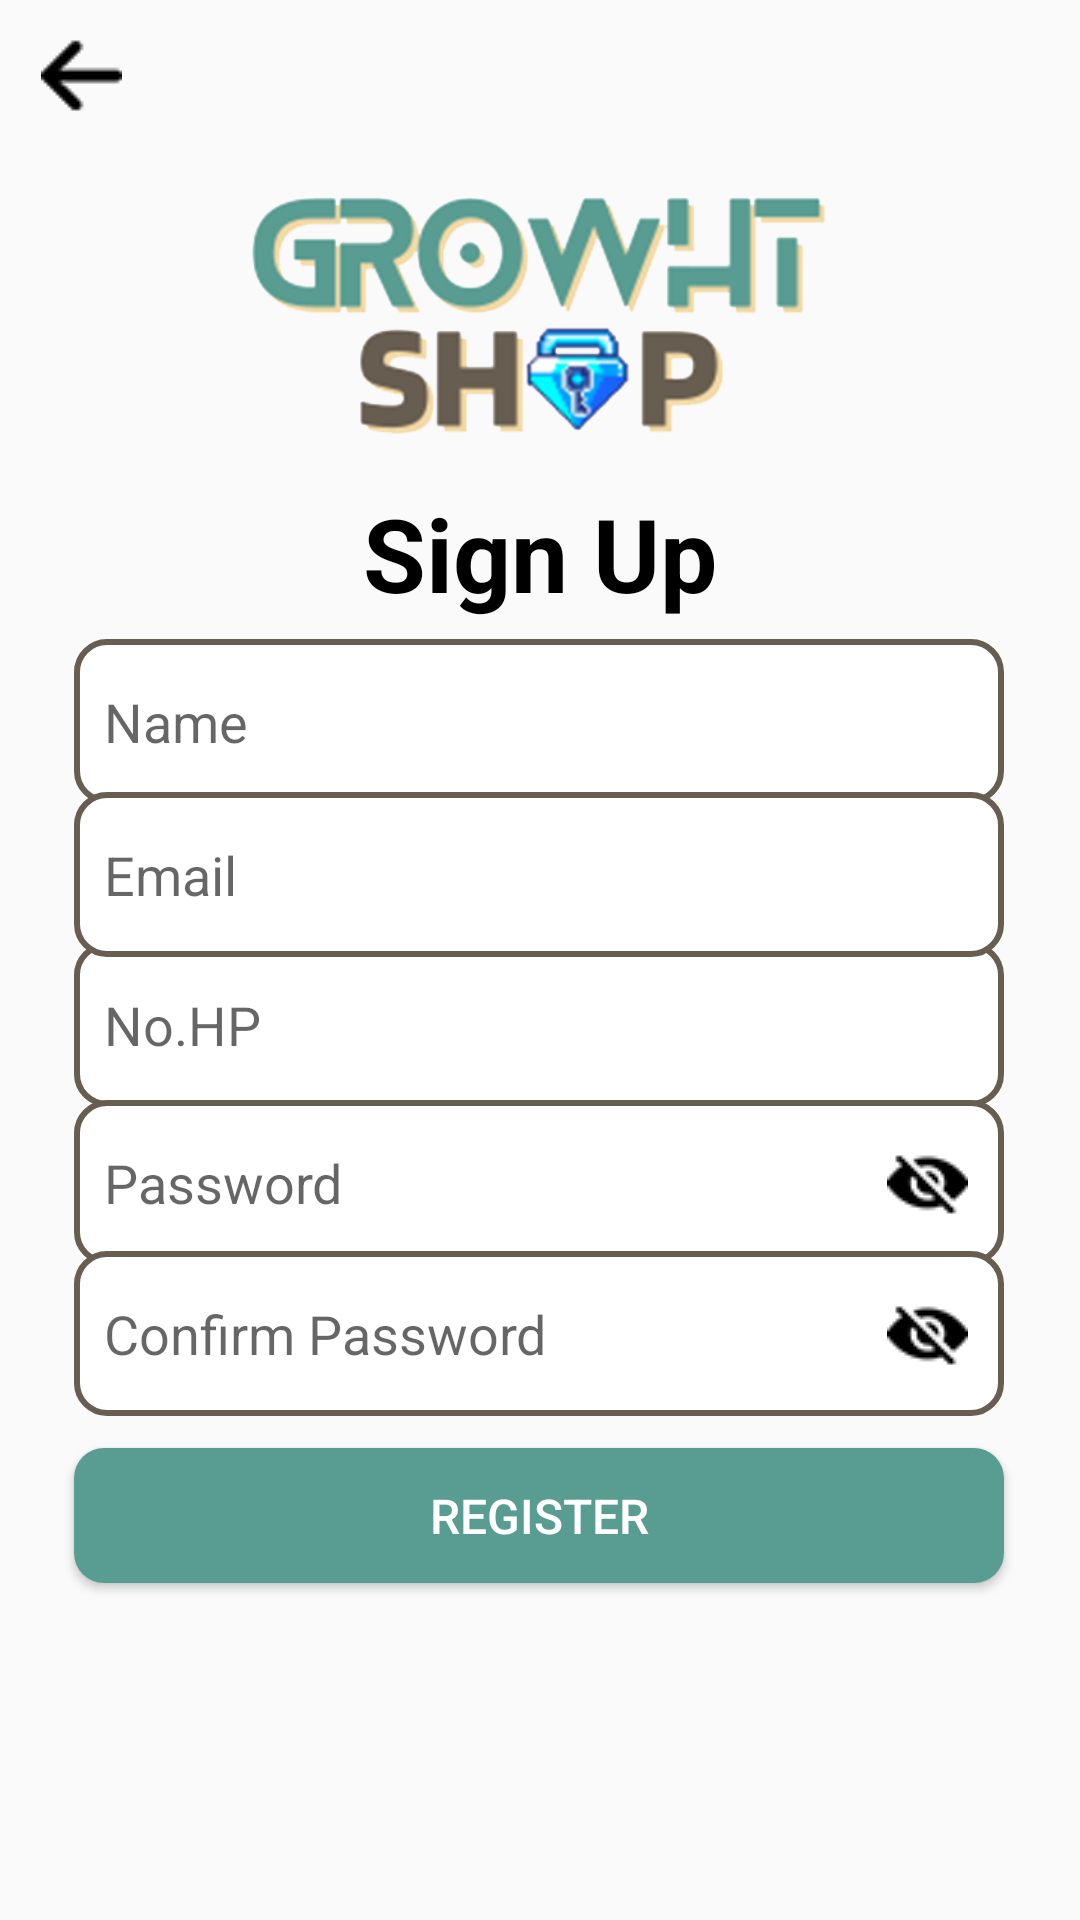

Point at icon controls on the screen. Image size 1080px x 1920px, points as [x,y].
back: [81,75]
hide: [927,1184], [927,1335]
